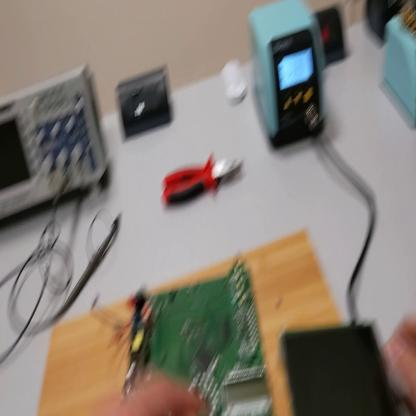hand: (116, 365, 213, 415), (383, 313, 416, 406)
low voltage board: (91, 252, 274, 416)
oscilloscope: (2, 57, 108, 227)
oscilloscope probe tip: (50, 226, 115, 324)
pliers: (165, 149, 245, 206)
socket: (313, 3, 349, 64), (366, 2, 409, 45)
welder base: (385, 3, 416, 130)
welder station: (250, 2, 332, 154)
working area: (38, 221, 347, 416)
